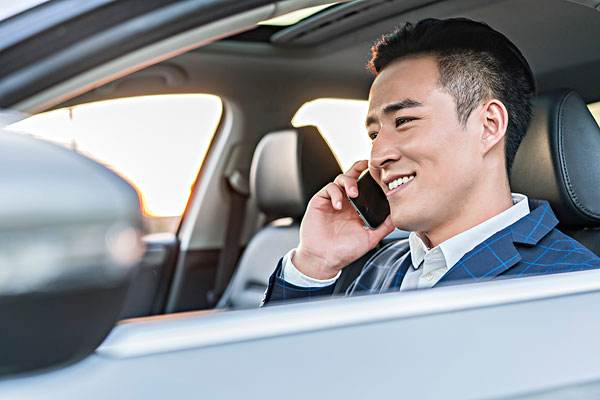calling: (297, 152, 398, 270)
